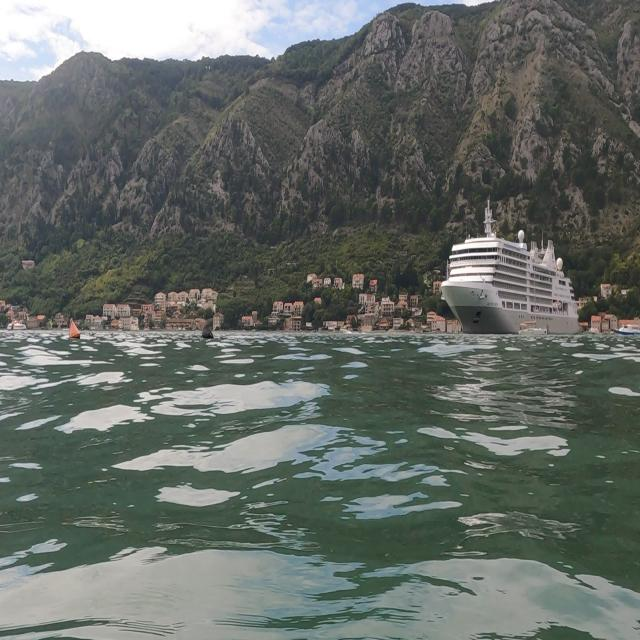boat: (438, 193, 582, 338)
buoy: (198, 318, 218, 349), (68, 312, 82, 350)
